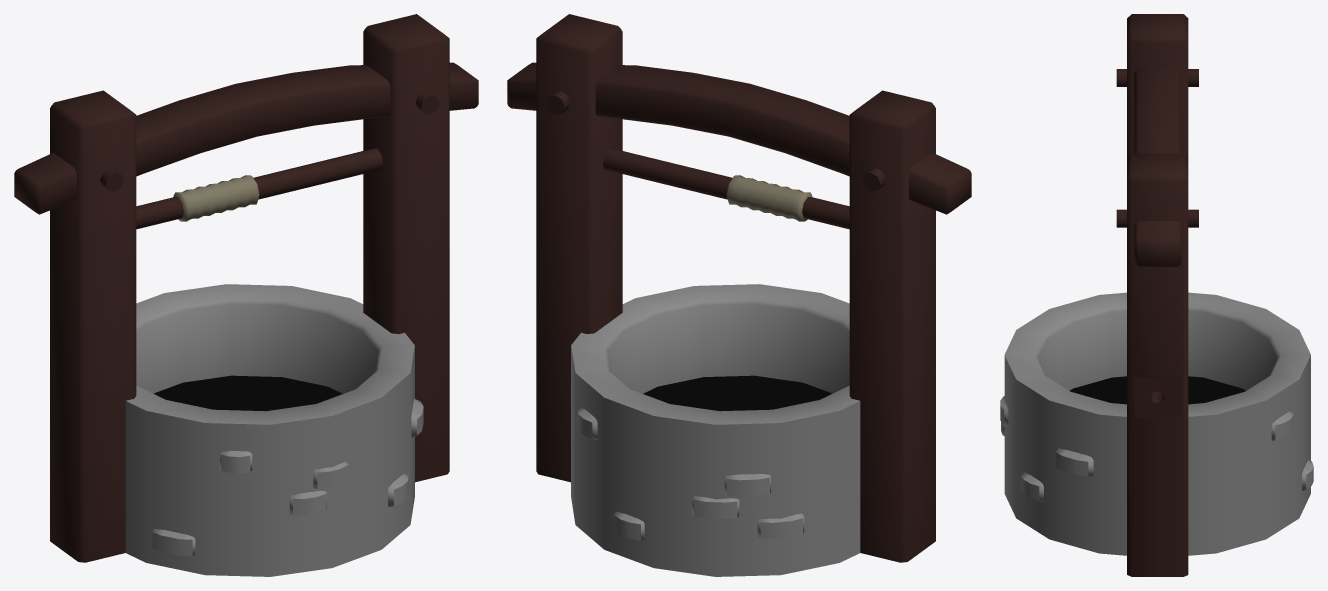
File: well.fbx
3 renders of one model, left to right at view 1: azimuth 30°, elevation 25°; view 2: azimuth 150°, elevation 25°; view 3: azimuth 270°, elevation 25°, orthographic. The views are drawn at different scales.
Visible parts, largest first — view 1: Well; view 2: Well; view 3: Well.
Boxes of the visible parts, x1,y1,x2,y2 form: Well: (14,14,478,576); Well: (507,14,971,576); Well: (1000,14,1313,576).
Size of the model in its own units: 305 by 288 by 205.
